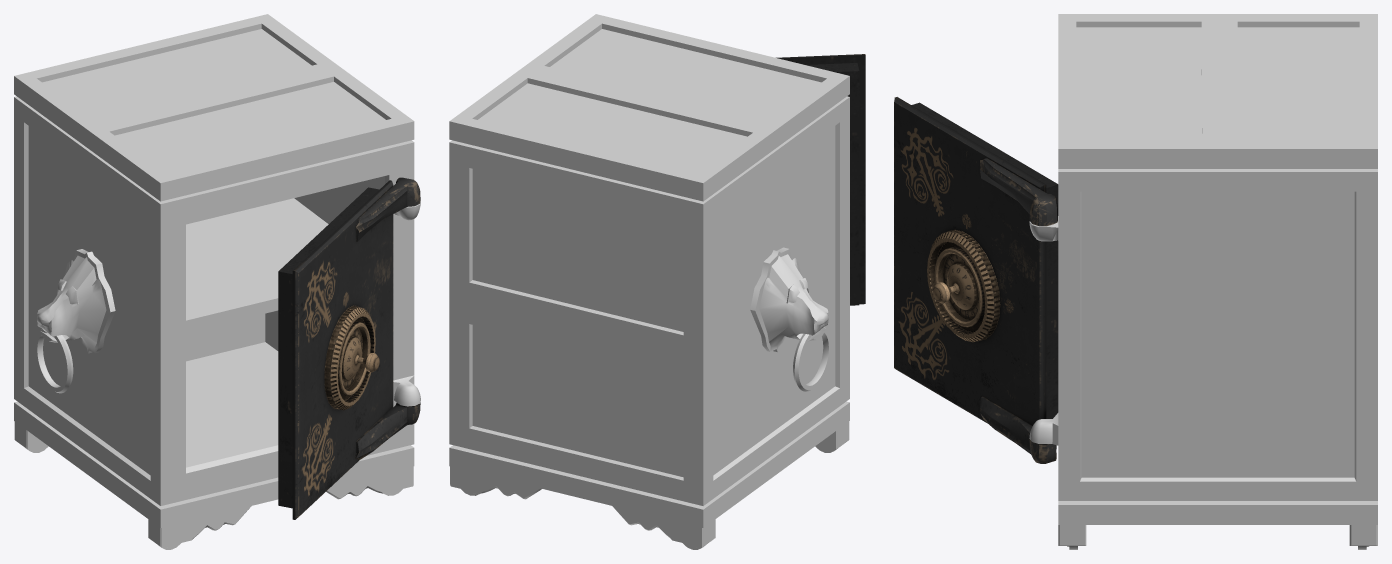
The model's file is Iron Safe Animatable Door.fbx.
The picture shows the model from 3 angles, left to right: view 1: azimuth 30°, elevation 25°; view 2: azimuth 150°, elevation 25°; view 3: azimuth 270°, elevation 25°; orthographic projection. The views are drawn at different scales.
Parts seen in each view (by area): view 1: Safe, Door; view 2: Safe, Door; view 3: Safe, Door.
Boxes of the visible parts, x1,y1,x2,y2 form: Safe: [14, 14, 420, 549]; Door: [278, 177, 420, 519]; Safe: [449, 14, 849, 549]; Door: [776, 54, 865, 305]; Safe: [1029, 14, 1377, 549]; Door: [894, 97, 1058, 463].
Size of the model in its own units: 126 by 148 by 160.
